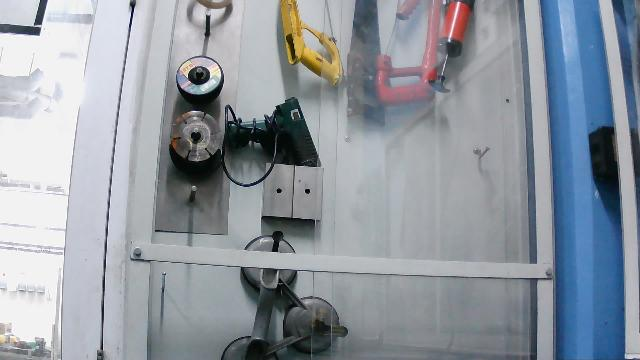gun_lem: (221, 96, 324, 188)
